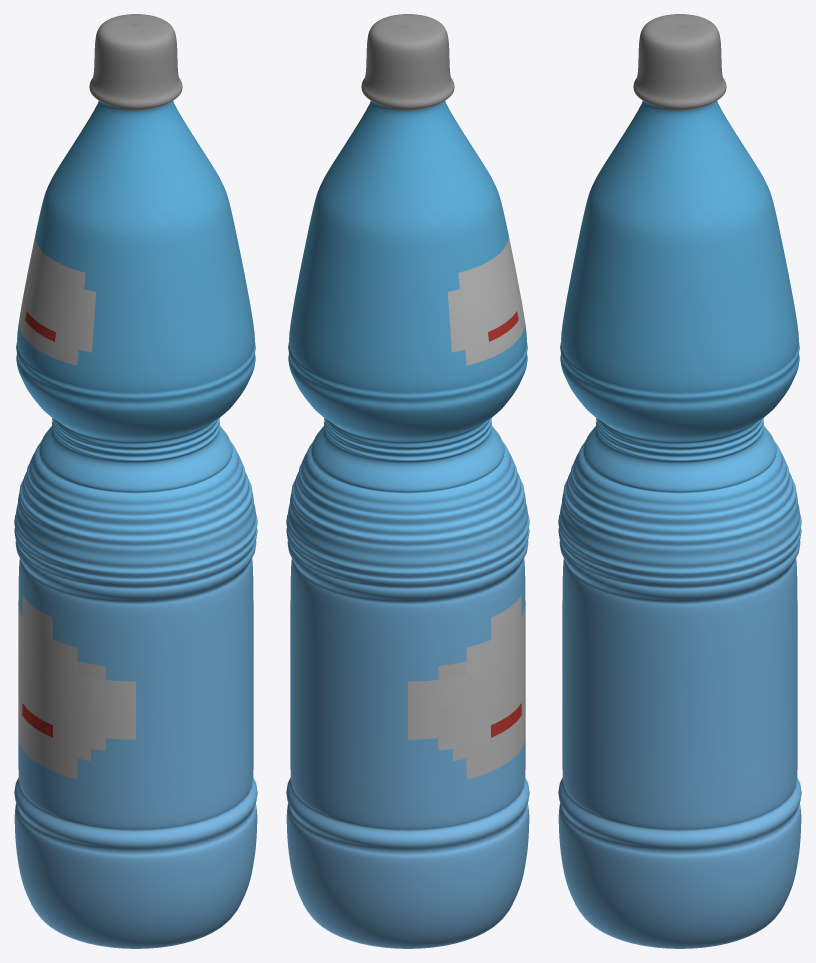
File: WaterBottle1.glb
3 views of the same model, side by side, from view 1: azimuth 30°, elevation 25°; view 2: azimuth 150°, elevation 25°; view 3: azimuth 270°, elevation 25° (orthographic).
Parts seen in each view (by area): view 1: Cisowianka; view 2: Cisowianka; view 3: Cisowianka.
Part boxes in pixels (x1,y1,x2,y2): Cisowianka: [14, 14, 257, 948]; Cisowianka: [286, 14, 529, 948]; Cisowianka: [558, 14, 801, 948].
Bounding box in the file's own units: 0.5904 × 2.37 × 0.5904.
1 material, 1 textured.
